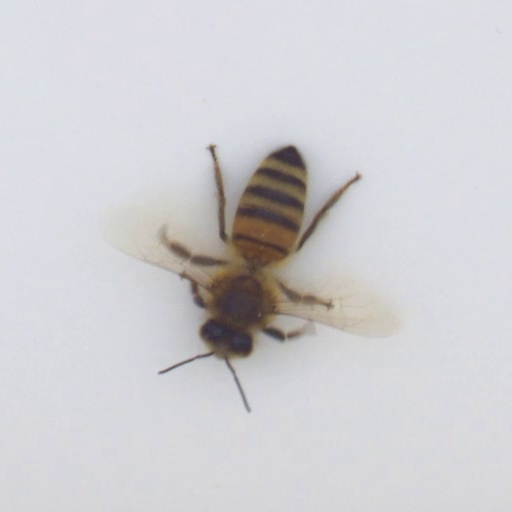Bee: (196, 144, 310, 363)
Thorax: (205, 264, 278, 330)
